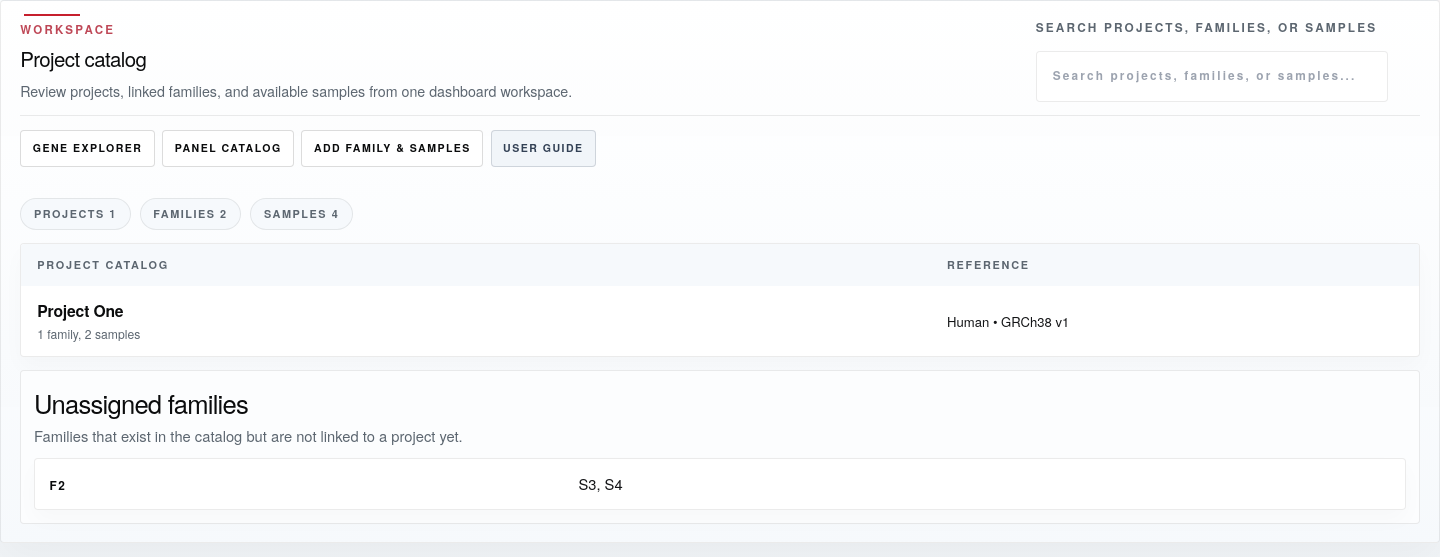
Test: Dashboard admin section › shows the linked family when searching by a project sample id
Check: the button "Project One 1 family, 2 samples" is shown, box [37, 299, 915, 343]
In the field labelled "Search projects, families, or samples": coordinates (1212, 76) [1036, 51, 1388, 102], type "S1"
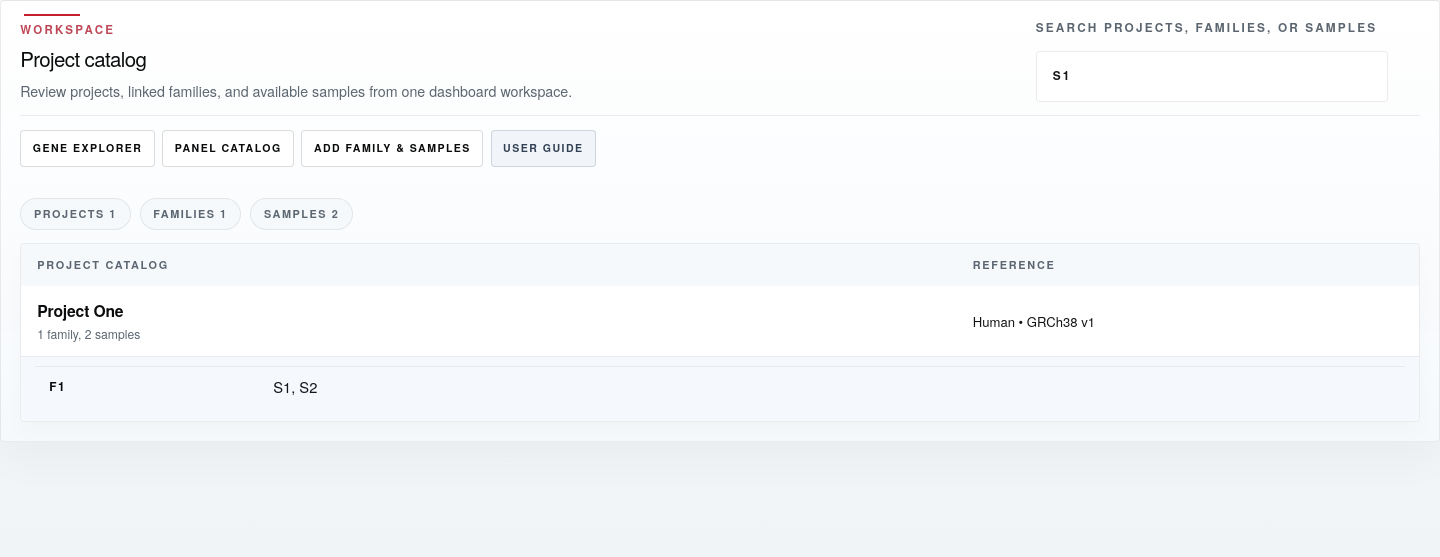
Check: the button "Project One 1 family, 2 samples" is shown, box [37, 299, 941, 343]
Check: the link "F1" is shown, box [49, 378, 66, 395]
